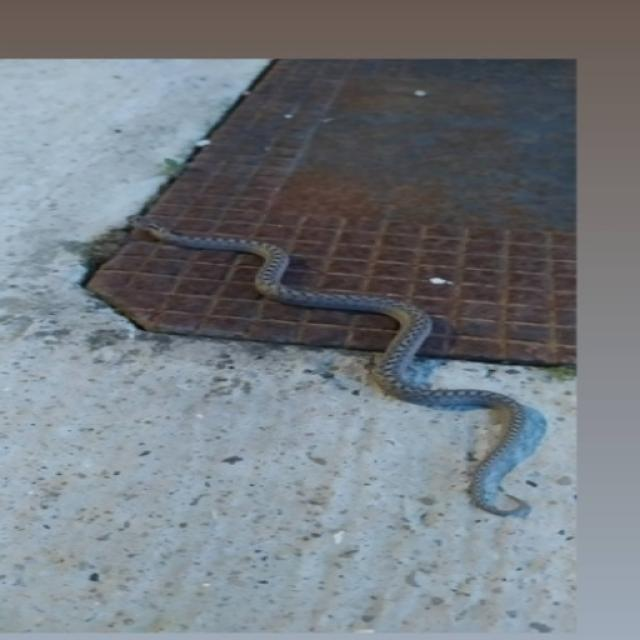snake: (132, 210, 572, 526)
